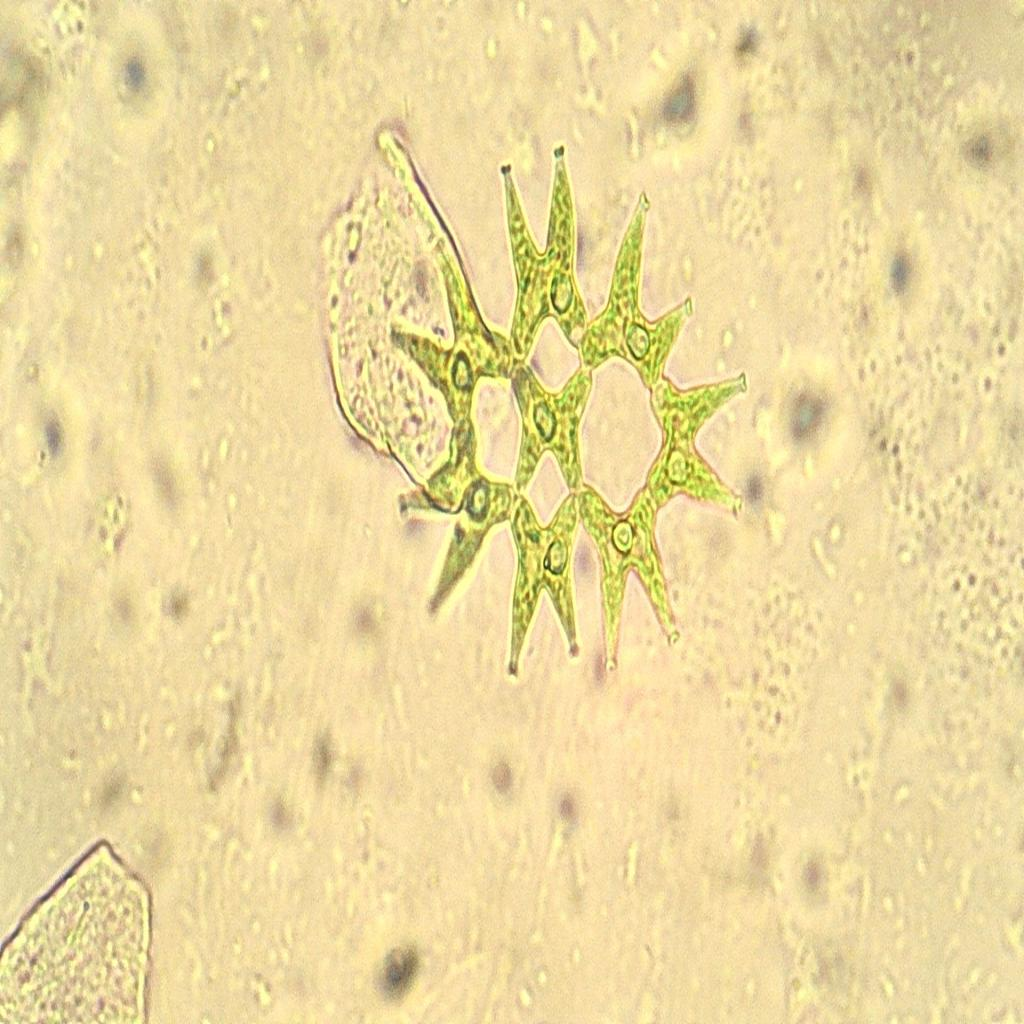Pediastrum_1T: (378, 136, 764, 726)
